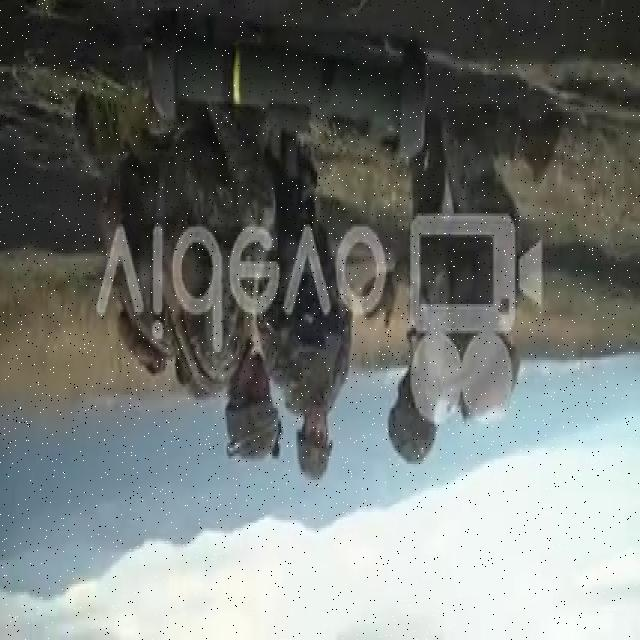bazooka: (146, 8, 433, 169)
